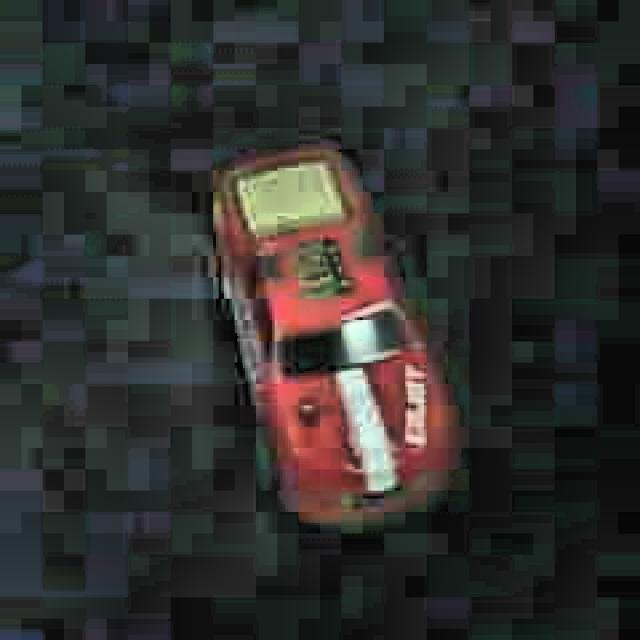car: (200, 140, 458, 528)
